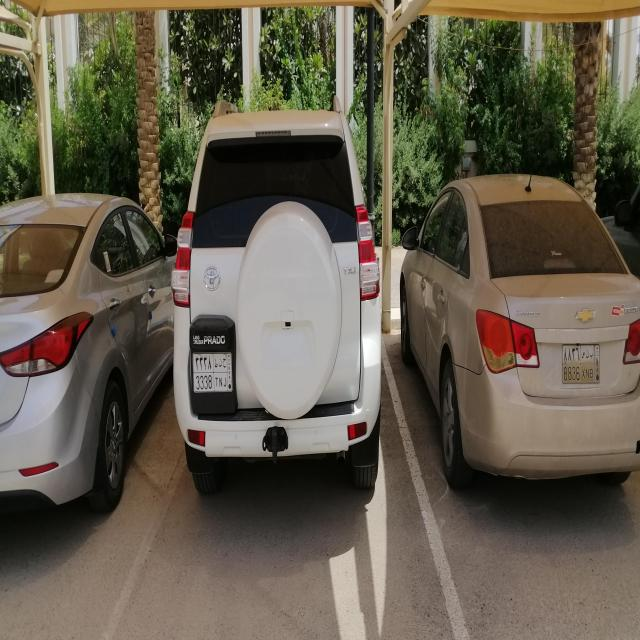license_plate: (192, 352, 232, 392), (562, 343, 600, 384)
